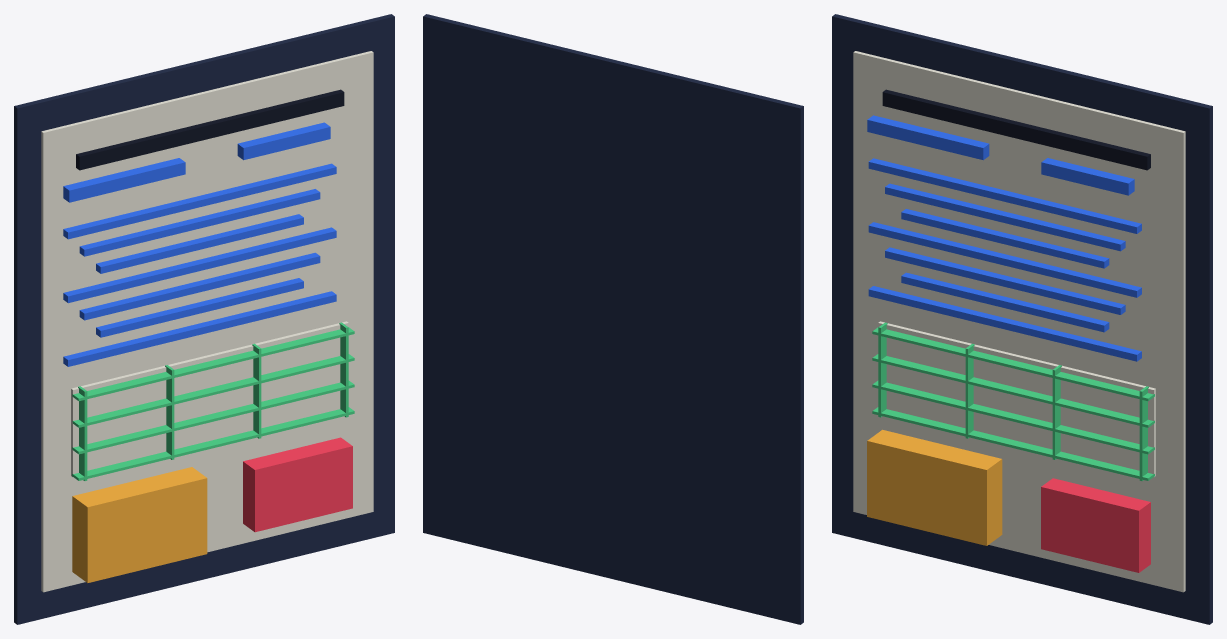
3 renders of one model, left to right at view 1: azimuth 30°, elevation 25°; view 2: azimuth 150°, elevation 25°; view 3: azimuth 330°, elevation 25°, orthographic.
Parts seen in each view (by area): view 1: document-ocr-layout; view 2: document-ocr-layout; view 3: document-ocr-layout.
Boxes of the visible parts, left/top/right/bottom form: document-ocr-layout: left=14, top=14, right=394, bottom=624; document-ocr-layout: left=423, top=14, right=803, bottom=624; document-ocr-layout: left=832, top=14, right=1212, bottom=624.
Bounding box in the file's own units: 5.2 × 6.8 × 0.5.
